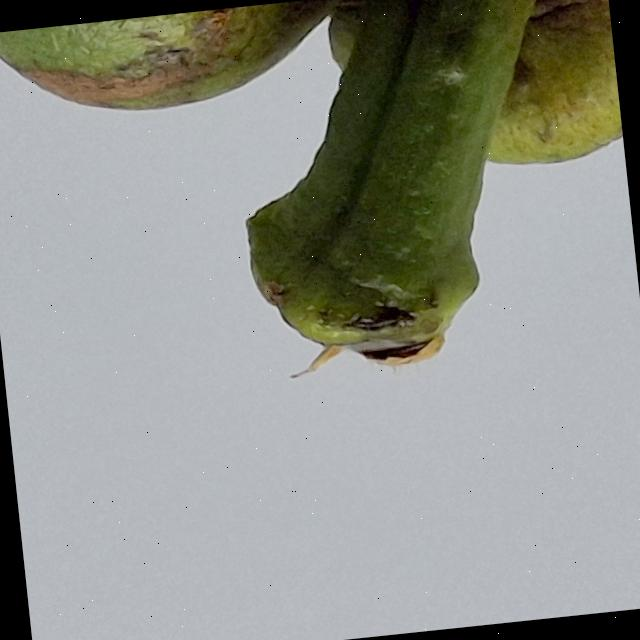mangosteen: (0, 0, 640, 453)
